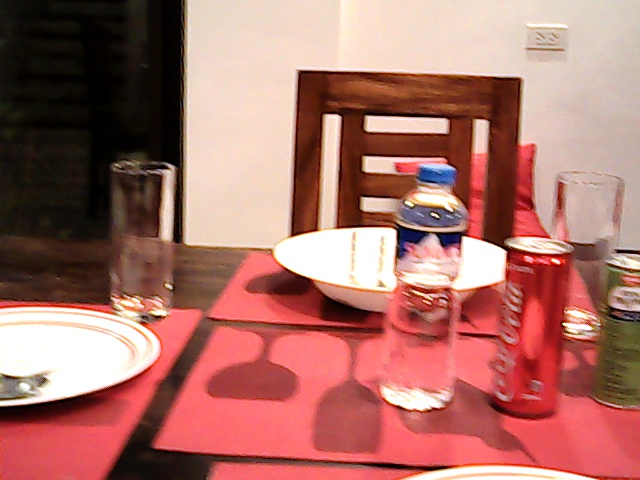Cola: (499, 232, 576, 425)
Summit Water: (380, 162, 468, 404)
